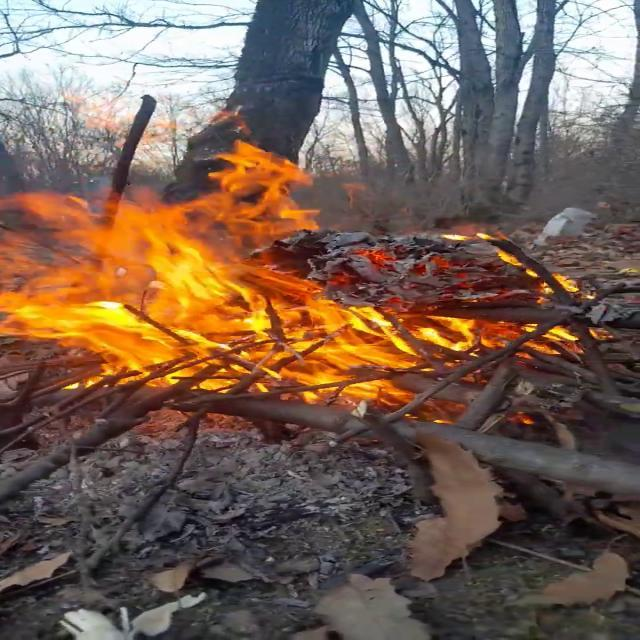Fire: (2, 131, 580, 407)
